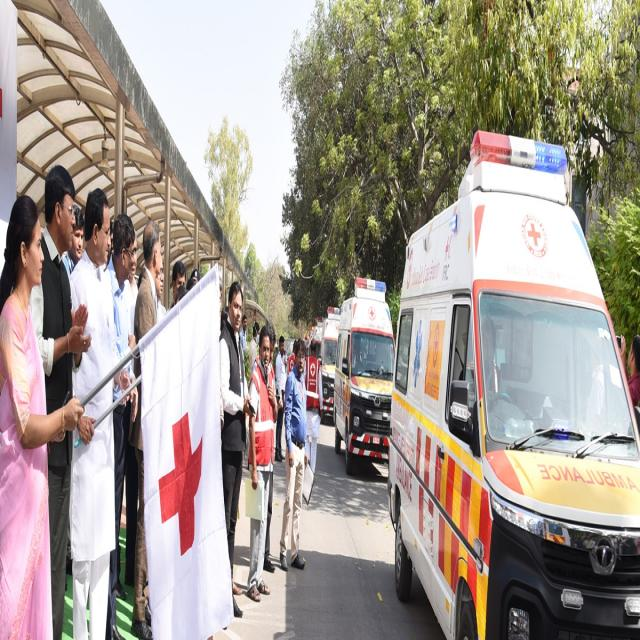emergency: (388, 131, 640, 638), (334, 278, 395, 472), (319, 308, 340, 418)
